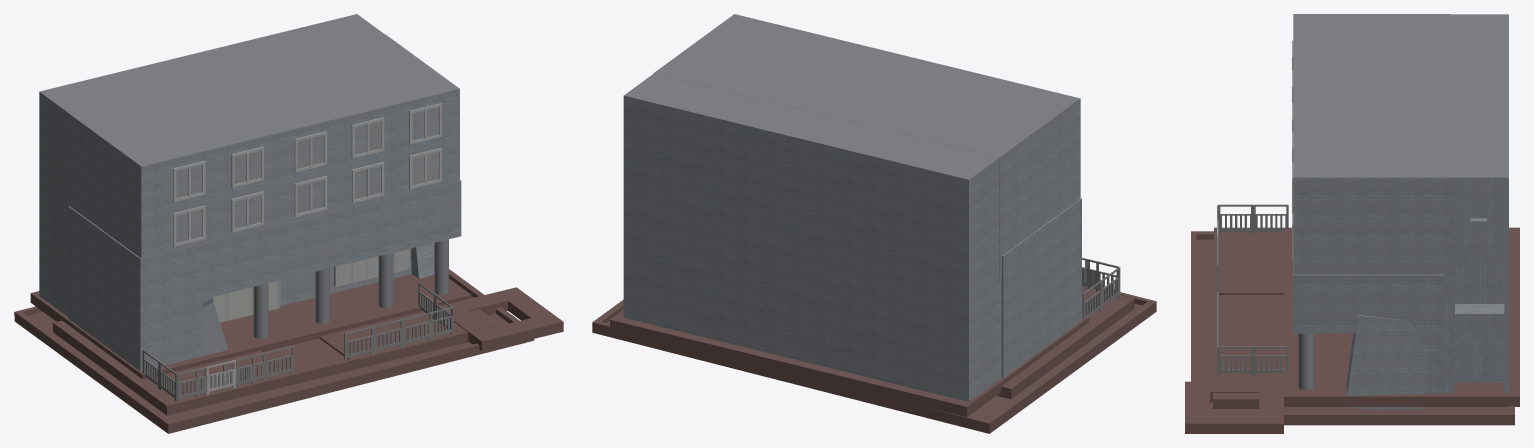
The model's file is ConstructionBulldRight.fbx.
3 views of the same model, side by side, from view 1: azimuth 30°, elevation 25°; view 2: azimuth 150°, elevation 25°; view 3: azimuth 270°, elevation 25° (orthographic). The views are drawn at different scales.
Parts seen in each view (by area): view 1: pCube25, pCube45, pCube43, pCube13, pPipe1, windowSet, windowSet1, pCube4, pCylinder6, pCylinder3, pCylinder4, pCylinder5 (+29 smaller); view 2: pCube25, pCube43, pCube13, pCube45; view 3: pCube25, pCube45, pCube13, pCube43, pCube6, pPipe1, pCylinder4, pCube46, fence11, fence, fence10, fence1.
Boxes of the visible parts, box(x1,y1,x2,y2) form: pCube25: box(39, 14, 461, 371); pCube45: box(53, 309, 467, 415); pCube43: box(14, 269, 534, 433); pCube13: box(30, 274, 471, 379); pPipe1: box(438, 287, 563, 351); windowSet: box(212, 280, 280, 322); windowSet1: box(334, 249, 409, 286); pCube4: box(202, 297, 228, 355); pCylinder6: box(378, 253, 393, 308); pCylinder3: box(253, 283, 268, 338); pCylinder4: box(434, 239, 448, 294); pCylinder5: box(315, 268, 329, 323); pCube25: box(623, 14, 1081, 401); pCube43: box(592, 285, 1156, 433); pCube13: box(610, 310, 1088, 417); pCube45: box(997, 286, 1134, 399); pCube25: box(1293, 14, 1508, 393); pCube45: box(1214, 227, 1283, 381); pCube13: box(1283, 227, 1519, 406); pCube43: box(1191, 231, 1514, 425); pCube6: box(1346, 315, 1429, 409); pPipe1: box(1185, 381, 1283, 433); pCylinder4: box(1298, 333, 1313, 389); pCube46: box(1213, 393, 1284, 408); fence11: box(1253, 346, 1288, 375); fence: box(1253, 204, 1288, 233); fence10: box(1218, 346, 1253, 375); fence1: box(1218, 204, 1253, 233).
Bounding box in the file's own units: 28.8 × 15.9 × 20.21.
7 materials, 1 textured.
